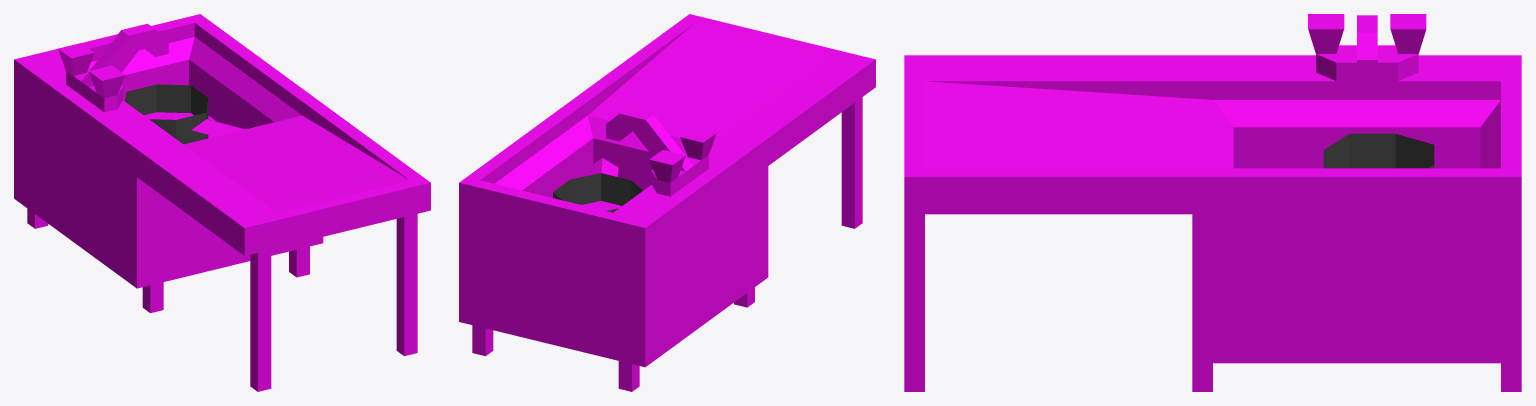
The model's file is sink.obj.
3 renders of one model, left to right at view 1: azimuth 30°, elevation 25°; view 2: azimuth 150°, elevation 25°; view 3: azimuth 270°, elevation 25°, orthographic. The views are drawn at different scales.
Parts seen in each view (by area): view 1: sink_front, sink_back; view 2: sink_front, sink_back; view 3: sink_front, sink_back.
Part boxes in pixels (box(x1,y1,x2,y2)): sink_front: box(14, 14, 430, 391); sink_back: box(125, 84, 244, 144); sink_front: box(459, 14, 875, 391); sink_back: box(553, 158, 642, 212); sink_front: box(904, 14, 1521, 391); sink_back: box(1323, 133, 1434, 168).
Bounding box in the file's own units: 1.12 × 1.28 × 2.4.
